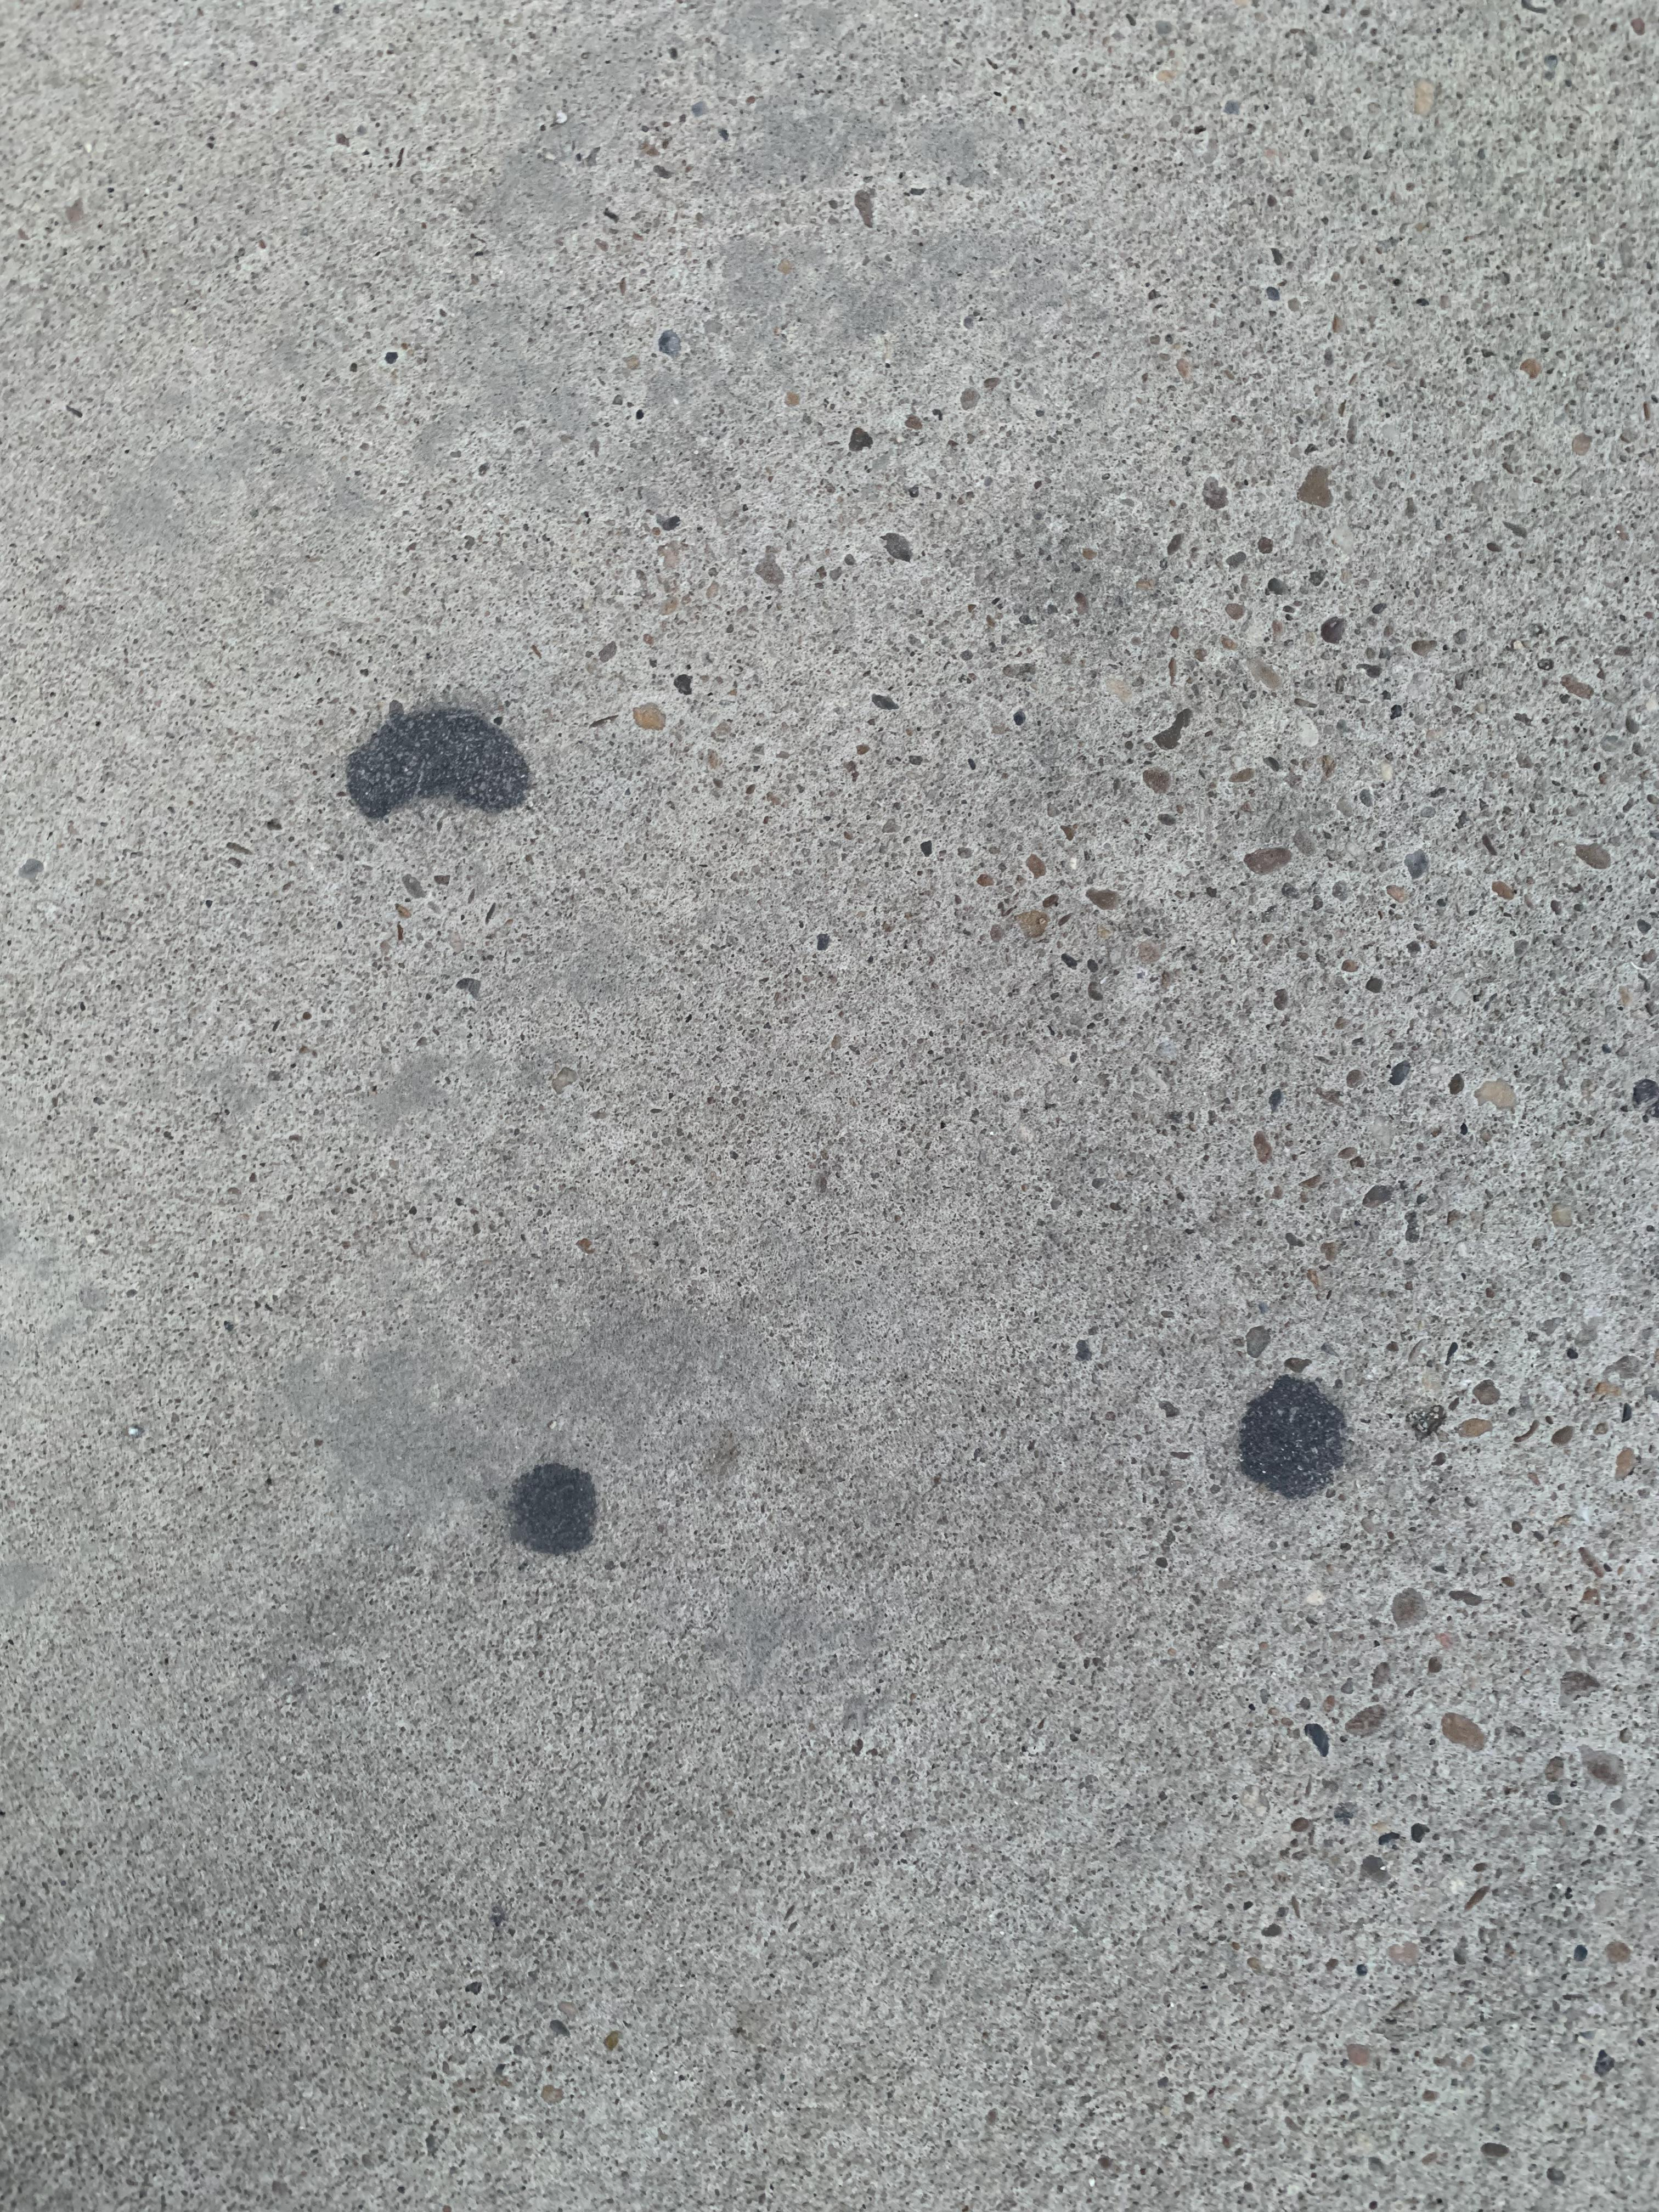grey spot: (342, 704, 532, 822), (1236, 1372, 1352, 1500), (505, 1460, 601, 1561)
